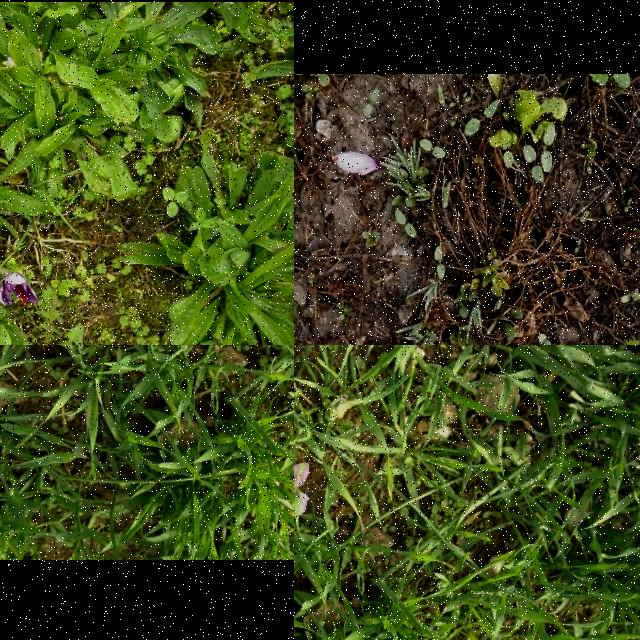flower: (0, 271, 39, 306), (330, 152, 382, 176)
